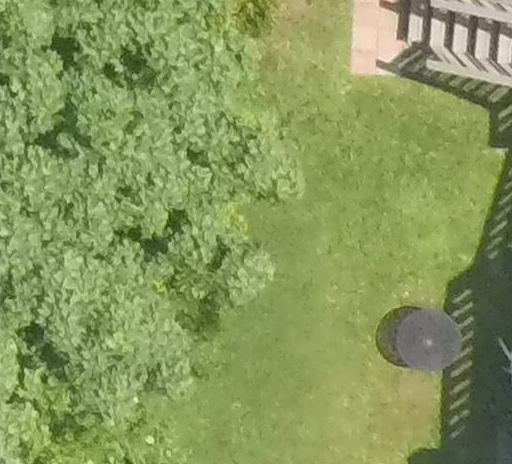table: (388, 298, 469, 385)
